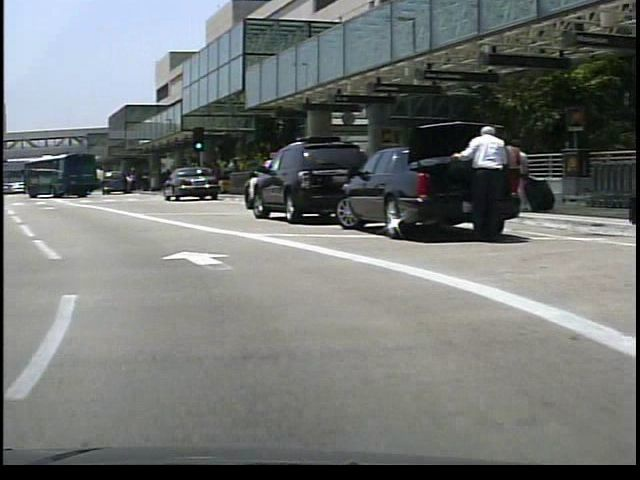person: (442, 121, 501, 241), (502, 133, 526, 217)
